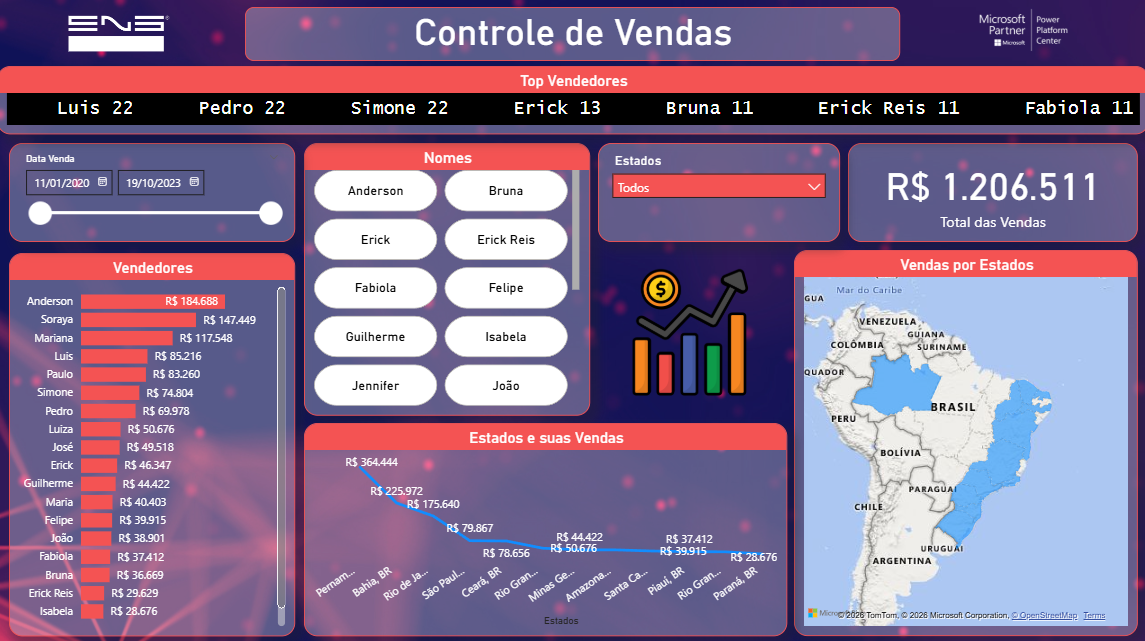

Layout of this report page (visuals, bound fields, positions):
{"tool":"powerbi","page":{"name":"Dashboard","canvas":[1280,720],"ordinal":1},"visuals":[{"type":"clusteredBarChart","title":"Vendedores","fields":{"Category":["fVendas.Nomes"],"Y":["fVendas.Valor da Venda"]},"box":[13.3,283.3,317.8,425.6],"z":0},{"type":"textbox","title":"Controle de Vendas","box":[275.6,10,727.8,60],"z":1000},{"type":"advancedSlicerVisual","fields":{"Values":["fVendas.Nomes"]},"box":[341.1,161.1,317.8,303.3],"z":2000},{"type":"card","fields":{"Values":["fVendas.Valor da Venda"]},"box":[945.6,161.1,322.2,110],"z":3000},{"type":"filledMap","title":"Vendas por Estados","fields":{"Category":["fVendas.Estados"]},"box":[885.6,280,382.2,428.9],"z":4000},{"type":"slicer","fields":{"Values":["fVendas.Data Venda"]},"box":[13.3,161.1,317.8,110],"z":5000},{"type":"ScrollingTextVisual1448795304508","title":"Top Vendedores","fields":{"Category":["fVendas.Nomes"],"Measure Absolute":["fVendas.Nomes"]},"box":[0,75.6,1280,75.6],"z":6000},{"type":"slicer","fields":{"Values":["fVendas.Estados"]},"box":[667.8,161.1,268.9,110],"z":7000},{"type":"lineChart","title":"Estados e suas Vendas","fields":{"Category":["fVendas.Estados"],"Y":["fVendas.Valor da Venda"]},"box":[341.1,472.2,536.7,236.7],"z":8000},{"type":"image","box":[683.3,294.4,174.4,154.4],"z":9000},{"type":"image","box":[74.4,4.4,122.2,70],"z":10000},{"type":"image","box":[1016.7,0,246.7,71.1],"z":11000}]}

Visuals, with their boxes in screenshot pixels (x1, y1, x2, y2), scaled from the page's 1280x720 canvas onto the 1145x641 screenshot:
"Vendedores" clusteredBarChart: <bbox>12, 252, 296, 631</bbox>
"Controle de Vendas" textbox: <bbox>247, 9, 898, 62</bbox>
advancedSlicerVisual - fVendas.Nomes: <bbox>305, 143, 589, 413</bbox>
card - fVendas.Valor da Venda: <bbox>846, 143, 1134, 241</bbox>
"Vendas por Estados" filledMap: <bbox>792, 249, 1134, 631</bbox>
slicer - fVendas.Data Venda: <bbox>12, 143, 296, 241</bbox>
"Top Vendedores" ScrollingTextVisual1448795304508: <bbox>0, 67, 1144, 135</bbox>
slicer - fVendas.Estados: <bbox>597, 143, 838, 241</bbox>
"Estados e suas Vendas" lineChart: <bbox>305, 420, 785, 631</bbox>
image: <bbox>611, 262, 767, 400</bbox>
image: <bbox>67, 4, 176, 66</bbox>
image: <bbox>909, 0, 1130, 63</bbox>
